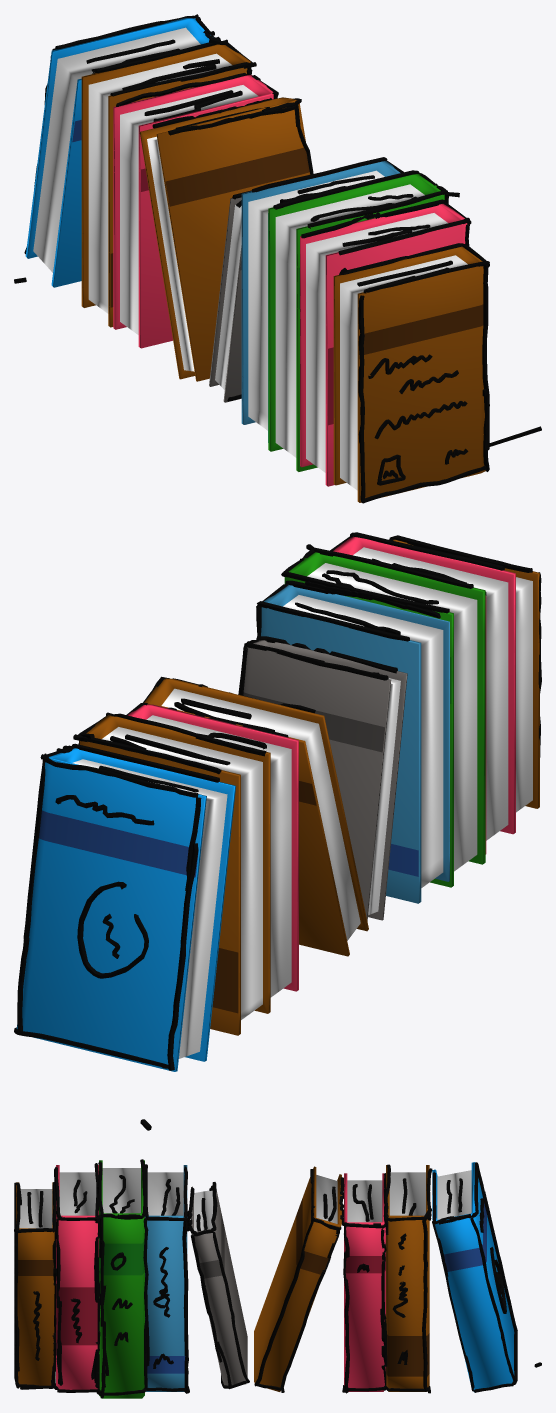
Rendered from books.glb.
3 renders of one model, top to bottom at view 1: azimuth 30°, elevation 25°; view 2: azimuth 150°, elevation 25°; view 3: azimuth 270°, elevation 25°, orthographic. The views are drawn at different scales.
Visible parts, largest first — view 1: books1_, lines_books1_; view 2: books1_, lines_books1_; view 3: books1_, lines_books1_.
Part boxes in pixels (box(x1,y1,x2,y2)): books1_: box(25, 18, 485, 502); lines_books1_: box(14, 14, 541, 503); books1_: box(16, 536, 539, 1071); lines_books1_: box(14, 532, 541, 1130); books1_: box(16, 1160, 514, 1398); lines_books1_: box(14, 1159, 541, 1398).
Bounding box in the file's own units: 0.3023 × 0.4052 × 0.9447.
